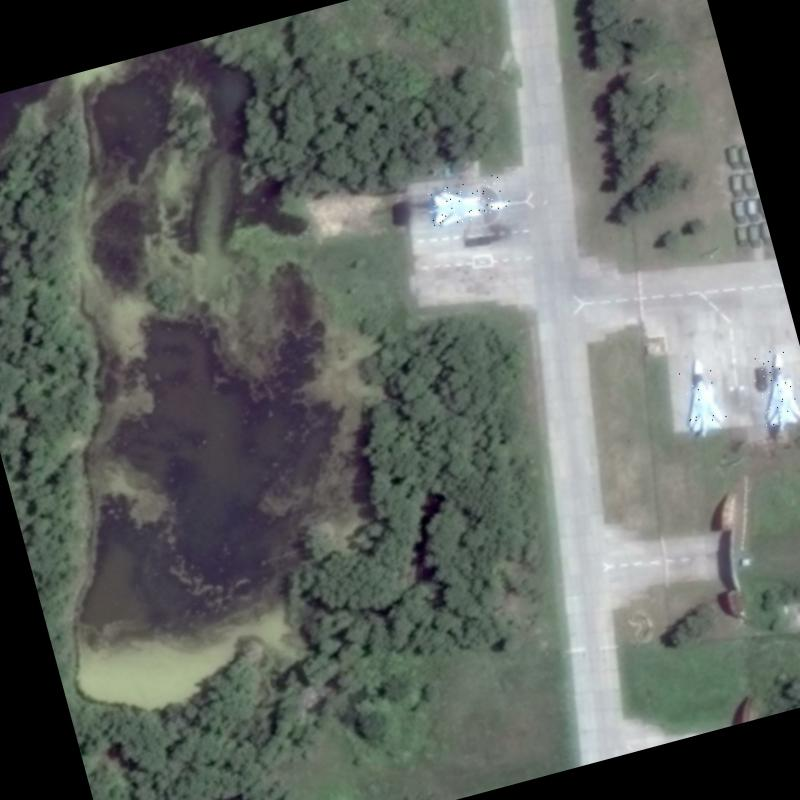A20: (424, 172, 511, 229), (670, 352, 728, 436), (748, 346, 800, 430)
